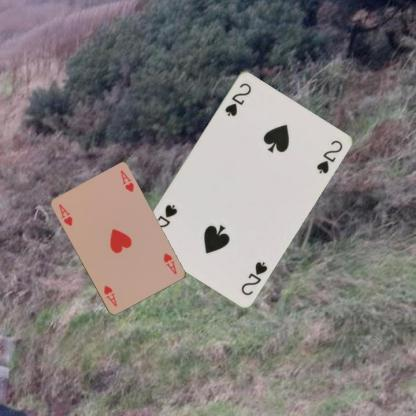2s: (238, 258, 269, 296), (222, 80, 252, 117)
Ah: (161, 250, 179, 276), (56, 202, 74, 227)
